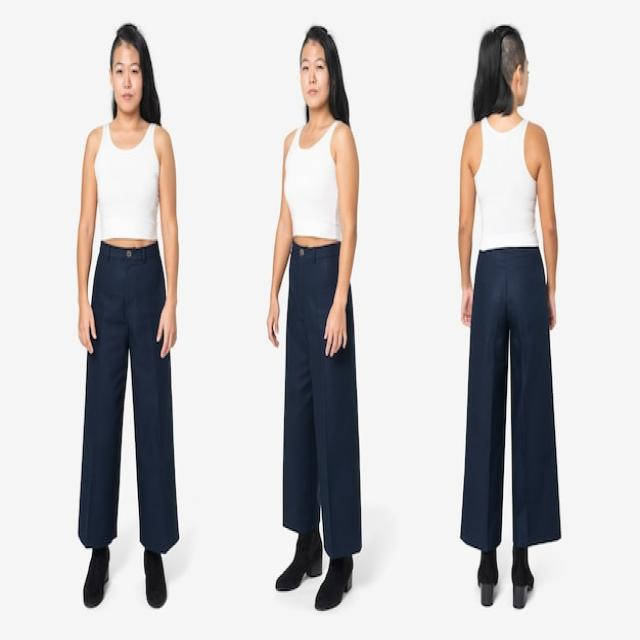Person: (77, 23, 179, 609), (457, 26, 558, 610), (266, 24, 361, 610)
